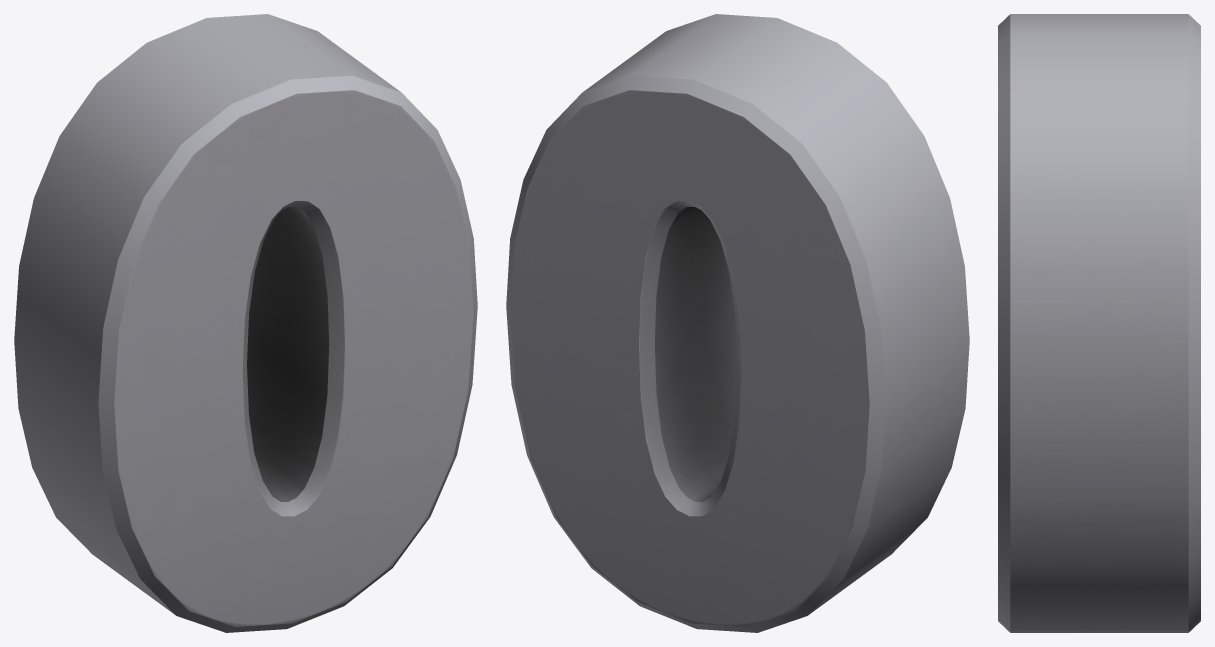
The model's file is 0_static.fbx.
The picture shows the model from 3 angles, left to right: view 1: azimuth 30°, elevation 25°; view 2: azimuth 150°, elevation 25°; view 3: azimuth 270°, elevation 25°; orthographic projection. The views are drawn at different scales.
Visible parts, largest first — view 1: 0_static; view 2: 0_static; view 3: 0_static.
Part boxes in pixels (x1,y1,x2,y2): 0_static: (14,14,477,632); 0_static: (506,14,969,632); 0_static: (998,14,1200,632).
Size of the model in its own units: 75.46 by 104 by 33.
